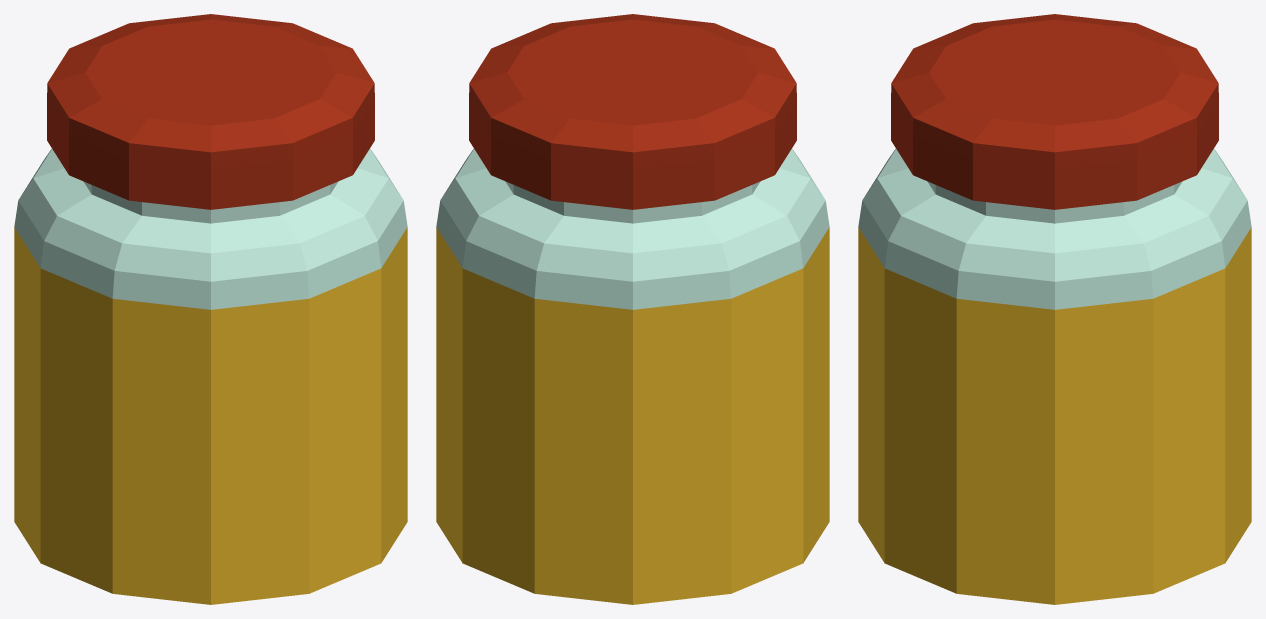
The model's file is honey_jar.fbx.
3 renders of one model, left to right at view 1: azimuth 30°, elevation 25°; view 2: azimuth 150°, elevation 25°; view 3: azimuth 270°, elevation 25°, orthographic.
Visible parts, largest first — view 1: honey_jar; view 2: honey_jar; view 3: honey_jar.
Part boxes in pixels (left/top/right/bottom): honey_jar: left=14, top=14, right=407, bottom=604; honey_jar: left=436, top=14, right=829, bottom=604; honey_jar: left=858, top=14, right=1251, bottom=604.
Bounding box in the file's own units: 119 × 150 × 119.
